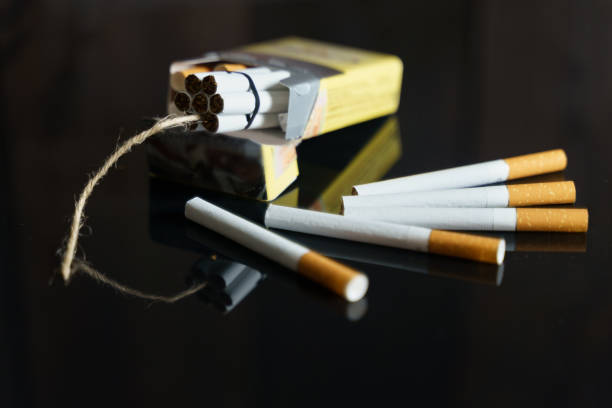cigarette: (142, 37, 405, 202), (184, 196, 370, 302), (264, 203, 506, 265), (351, 150, 568, 196), (339, 180, 577, 208), (339, 208, 590, 234), (203, 69, 309, 95), (208, 89, 292, 116), (199, 113, 281, 133), (190, 92, 208, 116), (183, 72, 203, 92), (172, 91, 190, 112)
